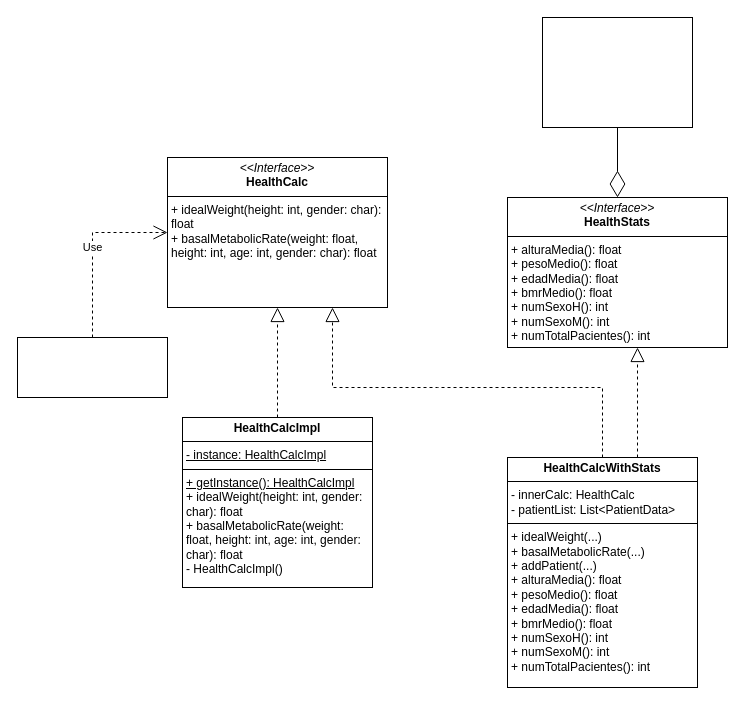
The diagram is 745 pixels wide and 705 high, and some of its shapes have lost their labels. Here are the shapes that lost their labels. From the top down, the centre of each, then its label:
At point (617, 72): "PatientData - altura: int - peso: float - edad: int - genero: char - bmr: float".
At point (92, 367): "Main + main(args: String[]): void".
